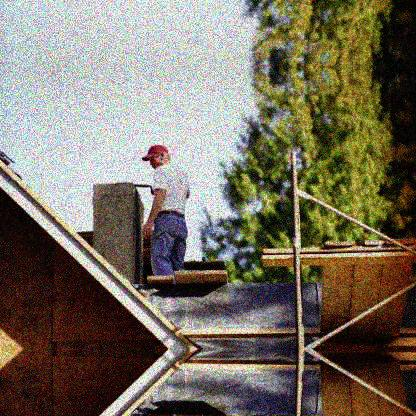helmet: (140, 145, 169, 169)
